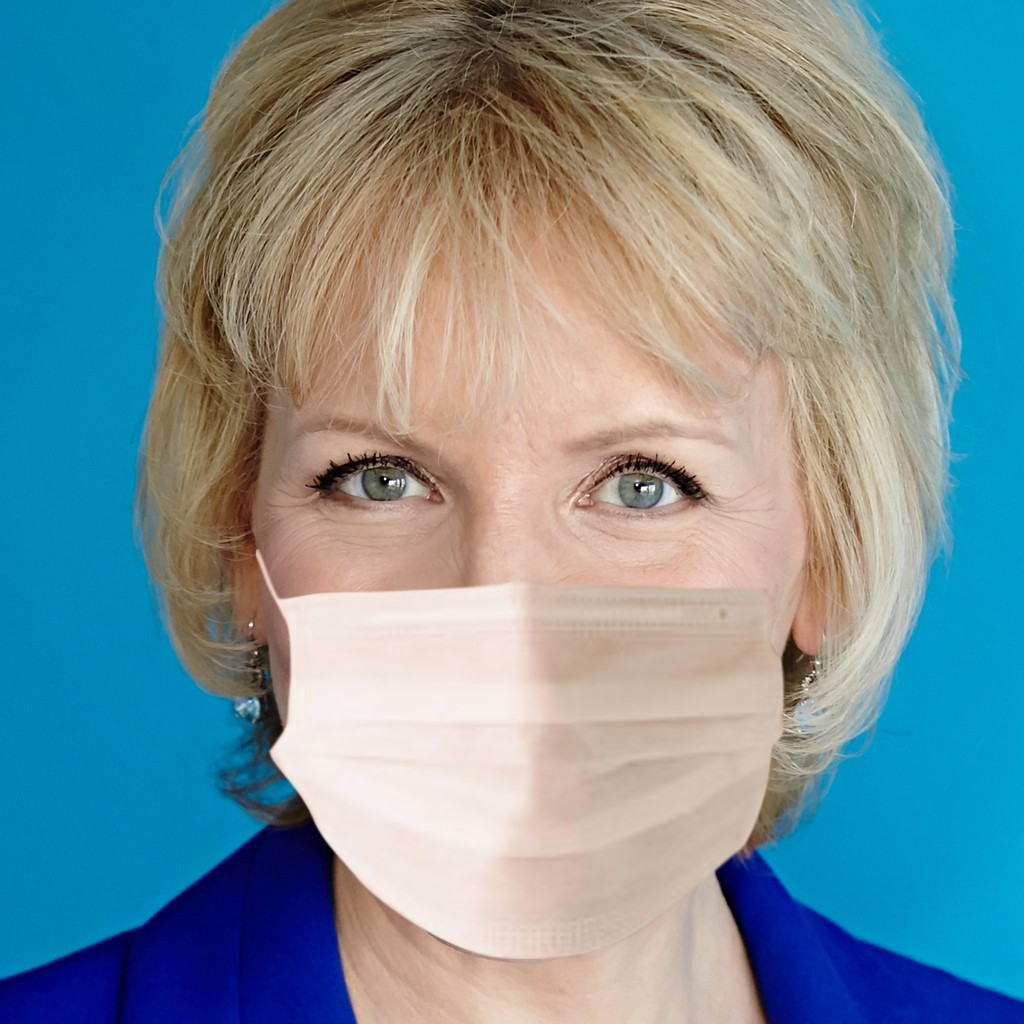con_mascara: (236, 174, 814, 931)
